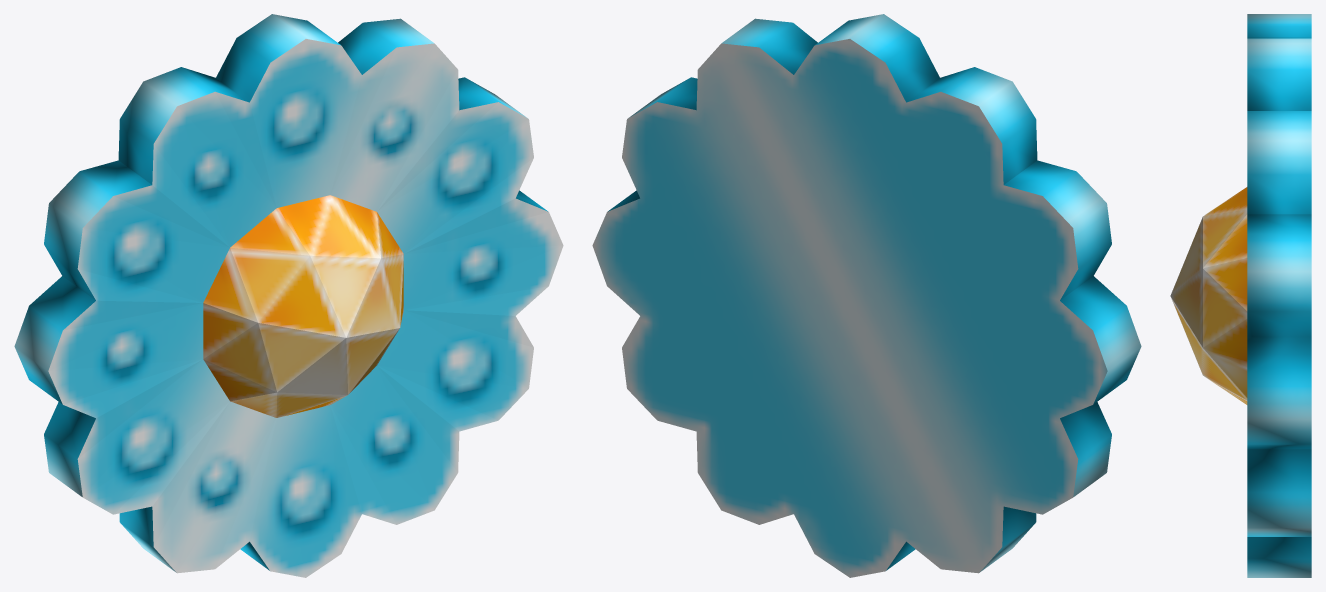
Rendered from item_014.fbx.
3 renders of one model, left to right at view 1: azimuth 30°, elevation 25°; view 2: azimuth 150°, elevation 25°; view 3: azimuth 270°, elevation 25°, orthographic. The views are drawn at different scales.
Visible parts, largest first — view 1: item014; view 2: item014; view 3: item014.
Part boxes in pixels (bbox=[...]): item014: bbox=[14, 14, 563, 577]; item014: bbox=[592, 14, 1141, 577]; item014: bbox=[1170, 14, 1311, 577].
Size of the model in its own units: 0.2945 by 0.2945 by 0.0735.
